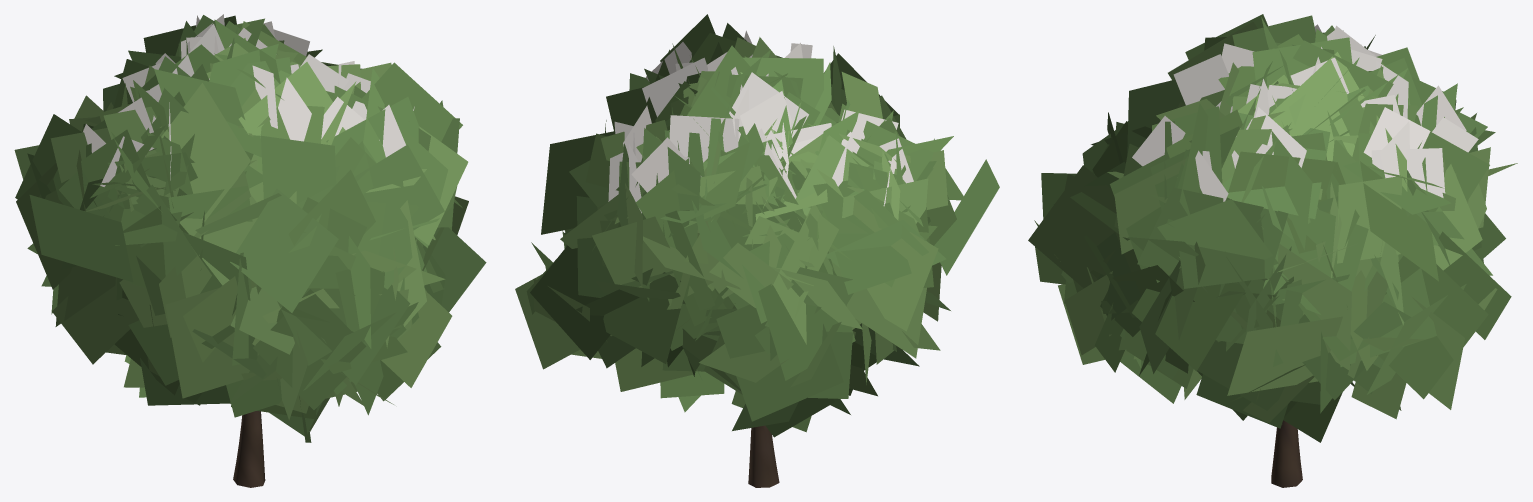
File: chestnut_1.glb
The picture shows the model from 3 angles, left to right: view 1: azimuth 30°, elevation 25°; view 2: azimuth 150°, elevation 25°; view 3: azimuth 270°, elevation 25°; orthographic projection. The views are drawn at different scales.
Parts seen in each view (by area): view 1: chestnut_1; view 2: chestnut_1; view 3: chestnut_1.
Part boxes in pixels (x1,y1,x2,y2): chestnut_1: (14, 14, 486, 487); chestnut_1: (515, 14, 999, 487); chestnut_1: (1028, 14, 1517, 487).
Bounding box in the file's own units: 1 × 1 × 0.9823.
